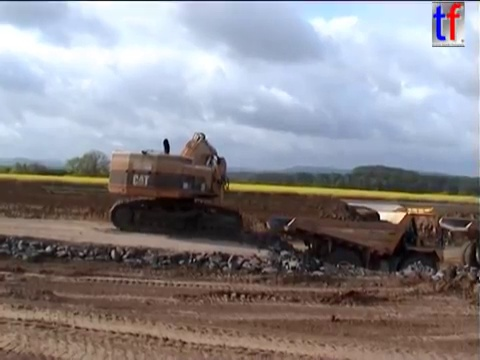excavator: (104, 130, 245, 242)
truck: (264, 204, 448, 296), (436, 213, 480, 277)
